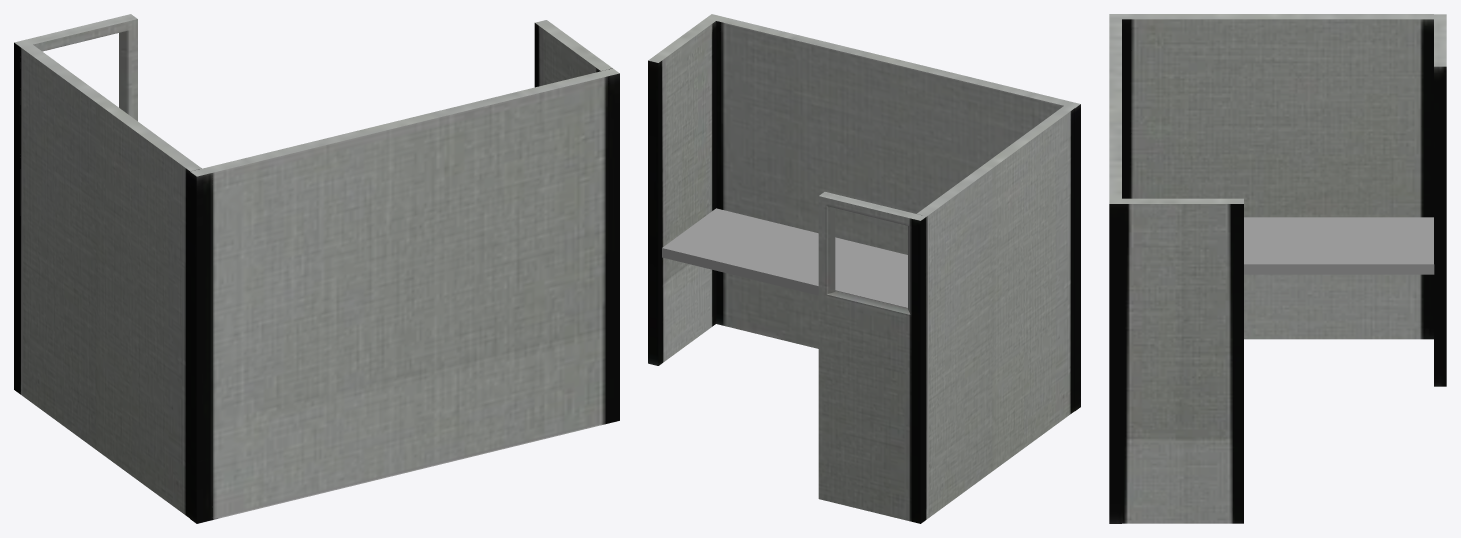
File: cubicle.glb
The picture shows the model from 3 angles, left to right: view 1: azimuth 30°, elevation 25°; view 2: azimuth 150°, elevation 25°; view 3: azimuth 270°, elevation 25°; orthographic projection. The views are drawn at different scales.
Parts seen in each view (by area): view 1: Cubicle; view 2: Cubicle; view 3: Cubicle.
Part boxes in pixels (left/top/right/bottom): Cubicle: left=14, top=14, right=619, bottom=523; Cubicle: left=648, top=14, right=1080, bottom=523; Cubicle: left=1109, top=14, right=1446, bottom=523.
Size of the model in its own units: 1.91 by 1.5 by 1.43.
Materials: 2 (1 with a texture image).
